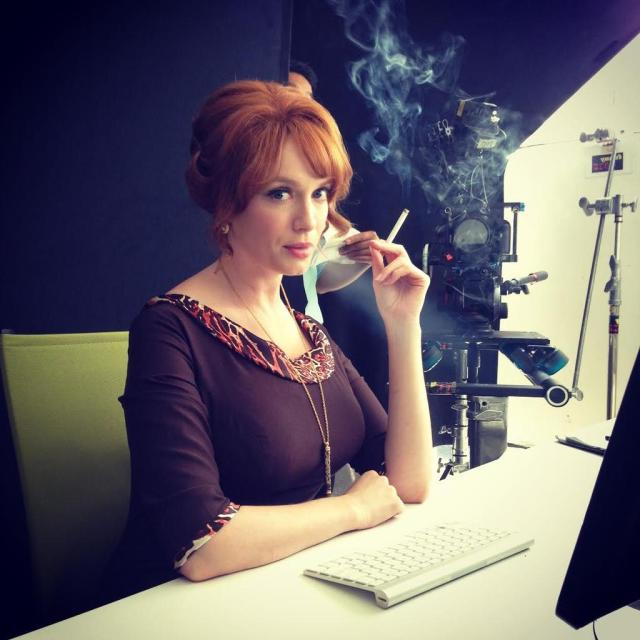smoking: (196, 74, 430, 336)
